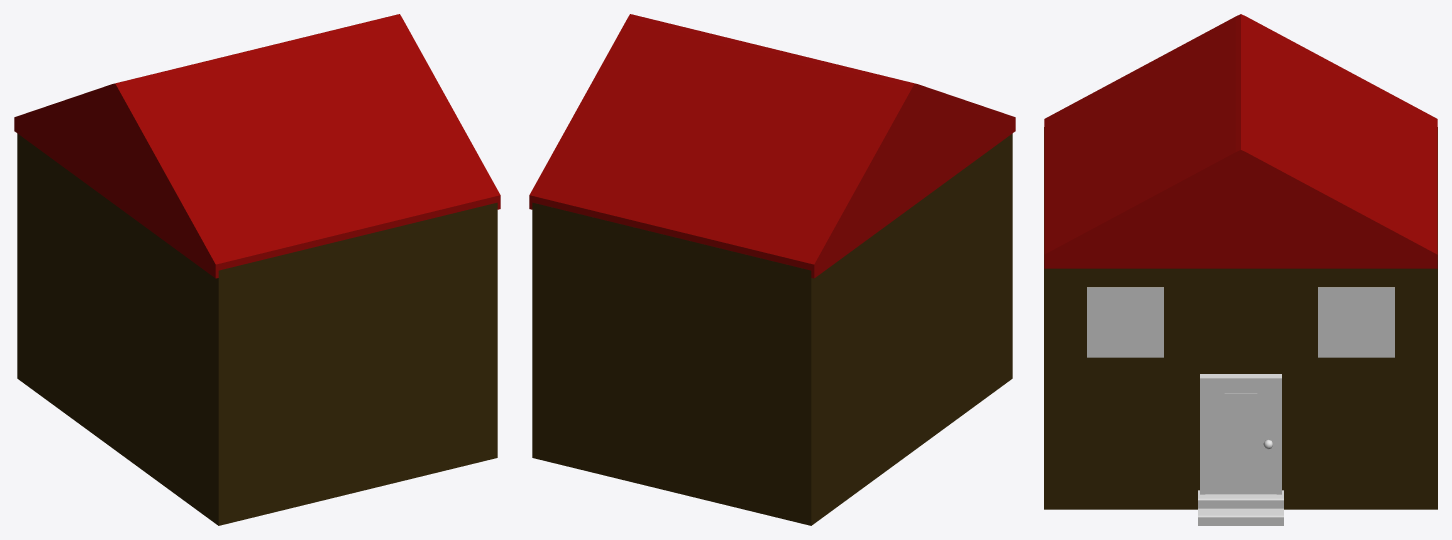
Rendered from Huis6.fbx.
3 renders of one model, left to right at view 1: azimuth 30°, elevation 25°; view 2: azimuth 150°, elevation 25°; view 3: azimuth 270°, elevation 25°, orthographic. The views are drawn at different scales.
Visible parts, largest first — view 1: Cube.017, Cube.018; view 2: Cube.017, Cube.018; view 3: Cube.018, Cube.017, Cube.021, Plane.004, Plane.006, Cube.020, Cube.019, Plane.005.
Boxes of the visible parts, <box> form: Cube.017: <box>17,133,497,525</box>; Cube.018: <box>14,14,500,278</box>; Cube.017: <box>532,133,1012,525</box>; Cube.018: <box>529,14,1015,278</box>; Cube.018: <box>1044,14,1437,268</box>; Cube.017: <box>1044,127,1437,509</box>; Cube.021: <box>1205,382,1276,494</box>; Plane.004: <box>1087,287,1163,357</box>; Plane.006: <box>1318,287,1394,357</box>; Cube.020: <box>1198,490,1283,525</box>; Cube.019: <box>1200,374,1281,494</box>; Plane.005: <box>1224,393,1257,422</box>.
Bounding box in the file's own units: 181 × 202 × 200.
